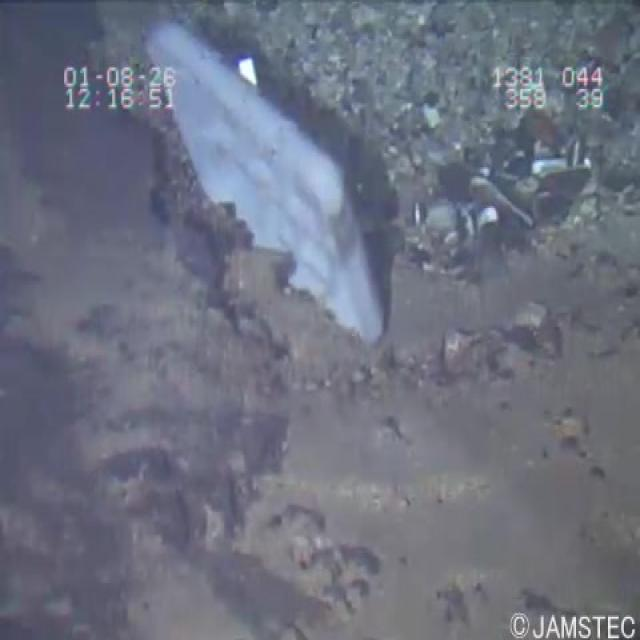plastic: (135, 14, 384, 354)
